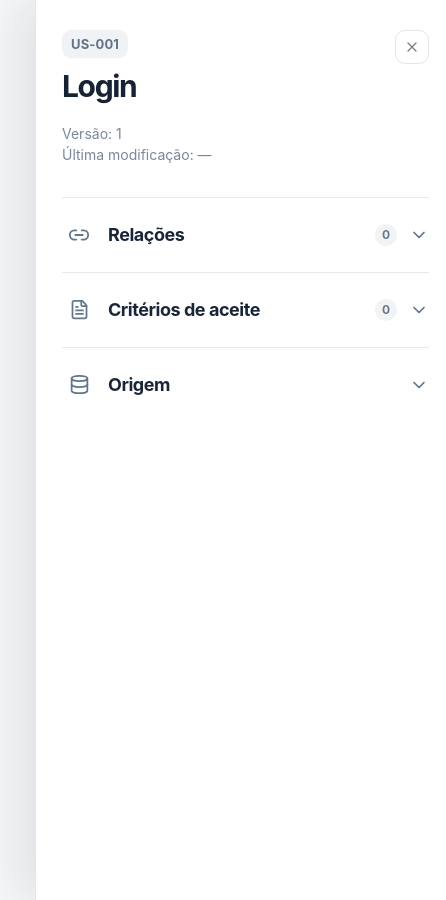
Test: RequirementDrawer relations › does not expose relation mutations to viewers
Click the button "Relações 0".
click(146, 234)  # box [62,198,429,272]
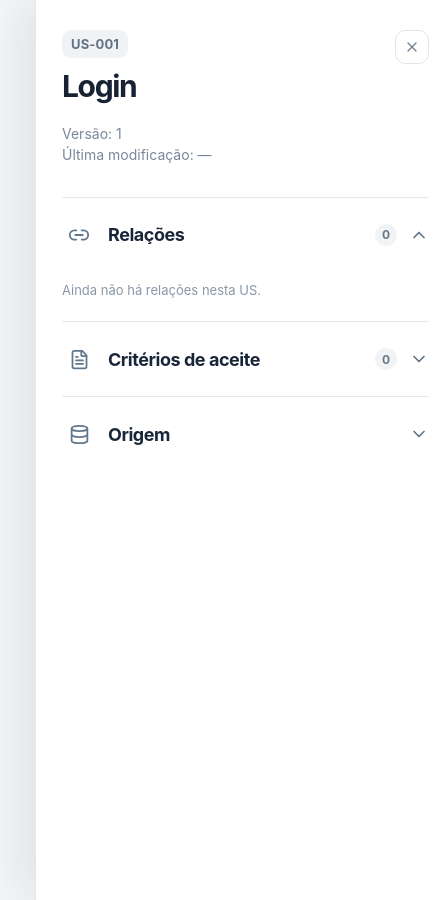
Check: the text "Ainda não há relações nesta US." is shown, box [62,282,261,298]
